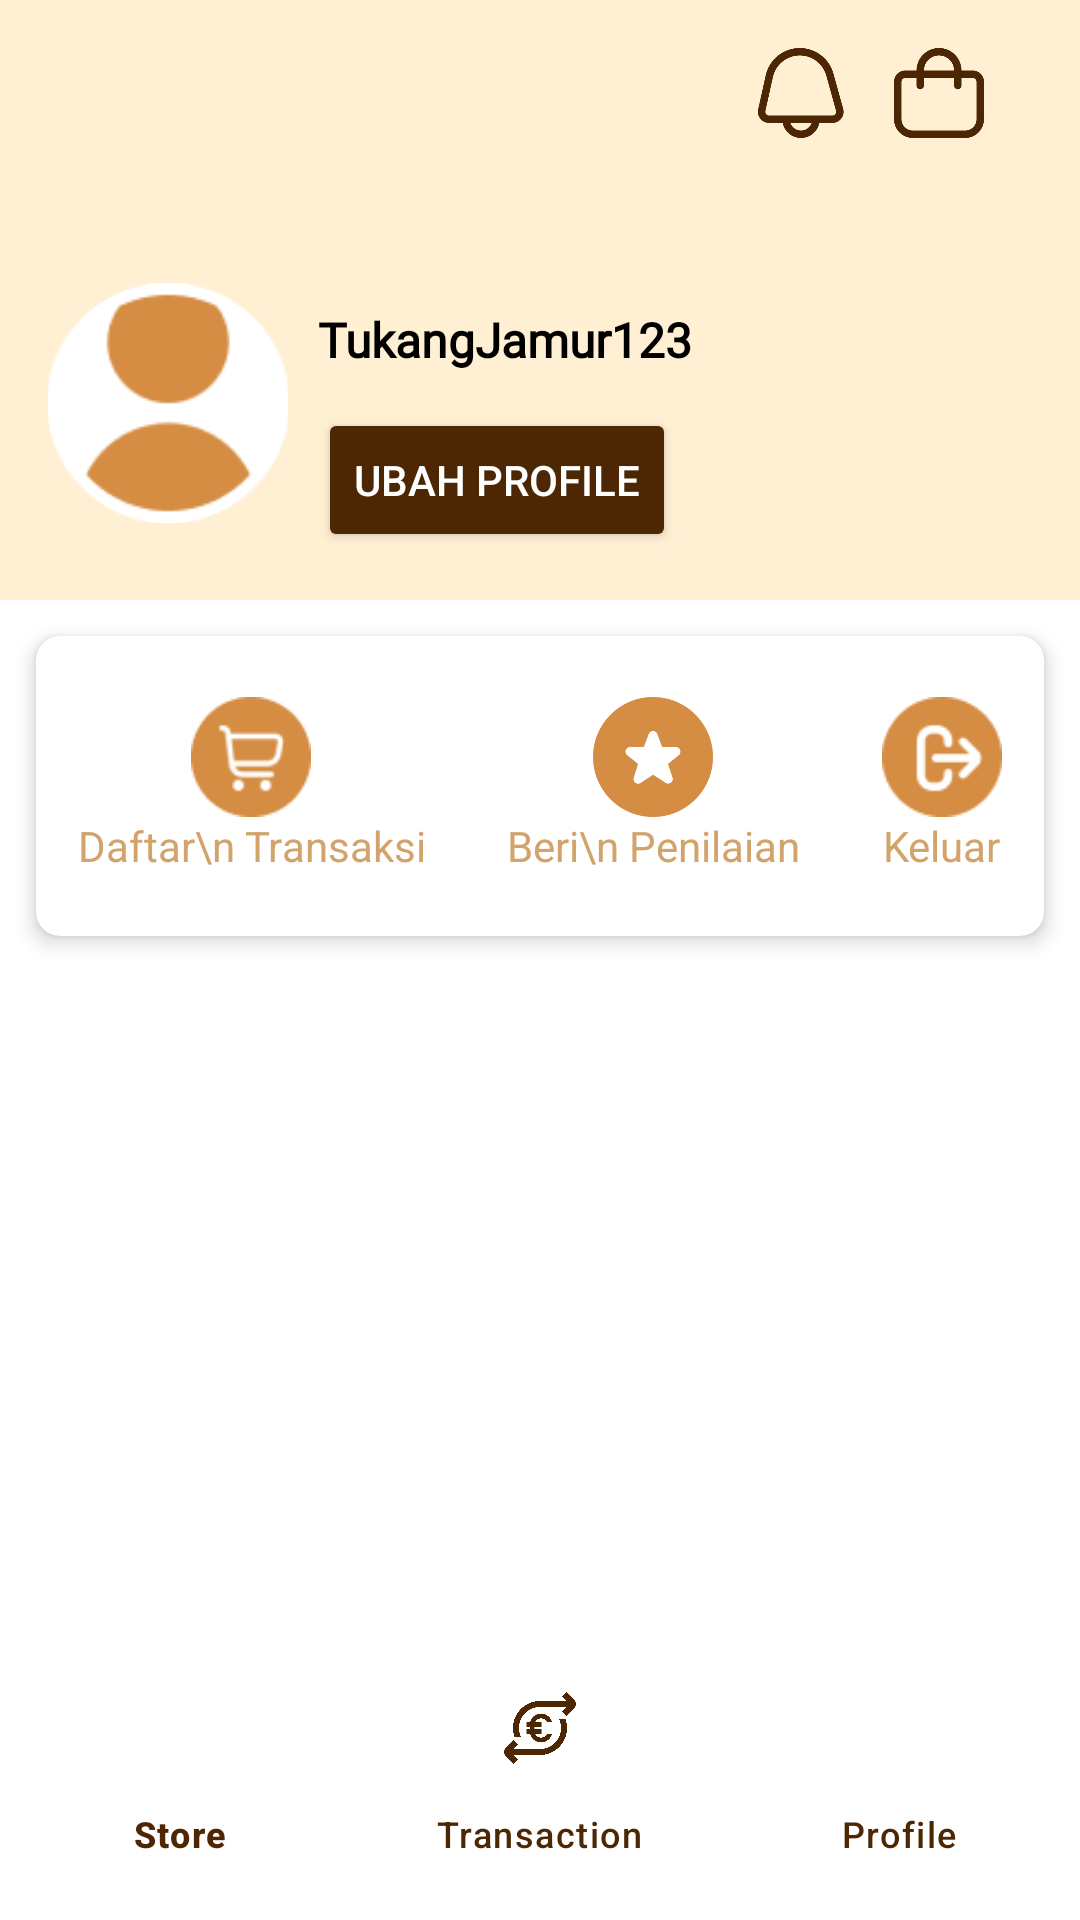

Named icons in this screenshot (1080px x 1920px) and their bounding boxes, [x1, y1, x2, y2]:
Keranjang: [894, 48, 984, 138]
Notifications: [758, 48, 844, 138]
